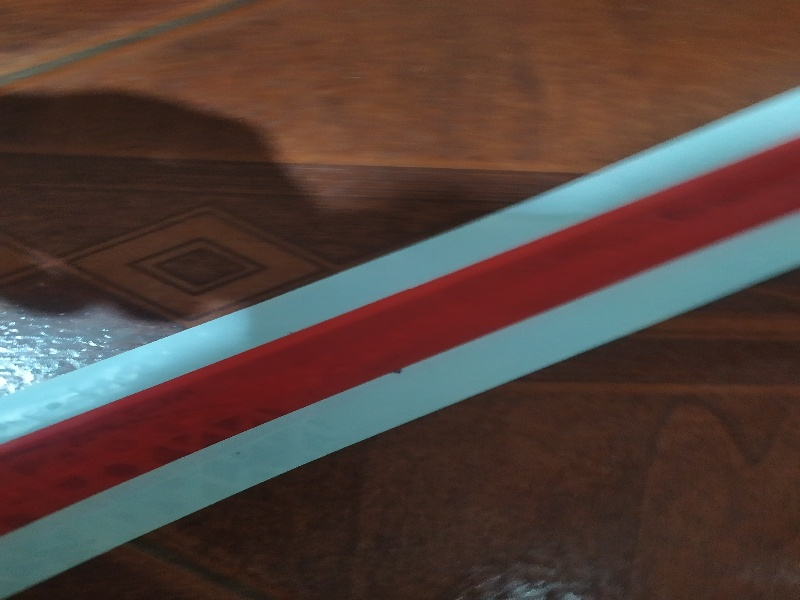saindoEsquerda: (7, 34, 800, 588)
